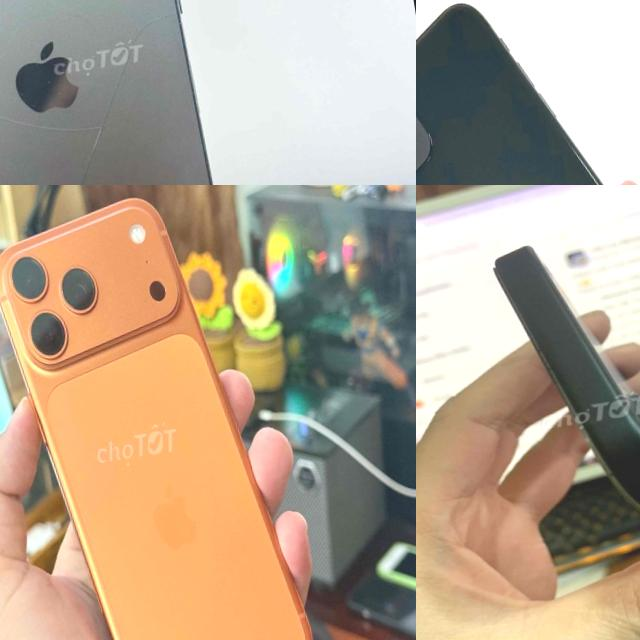gen_11: (416, 0, 640, 185)
gen_12_13: (0, 0, 260, 185)
gen_16: (494, 246, 640, 511)
